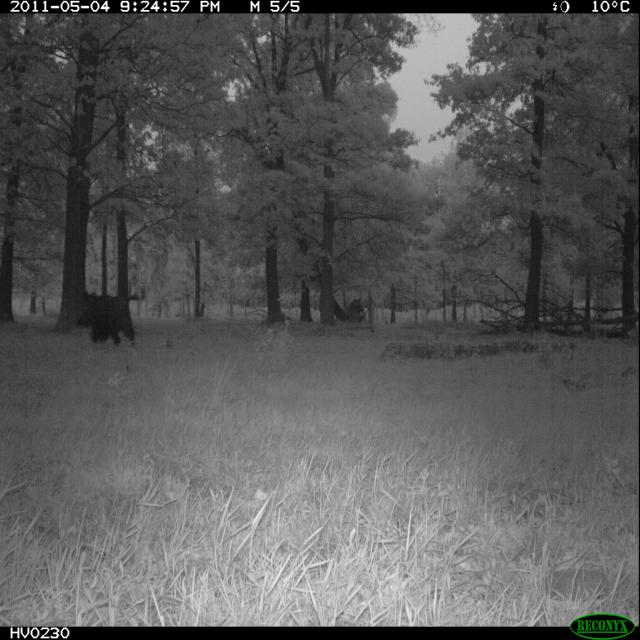boar: (52, 272, 150, 372)
